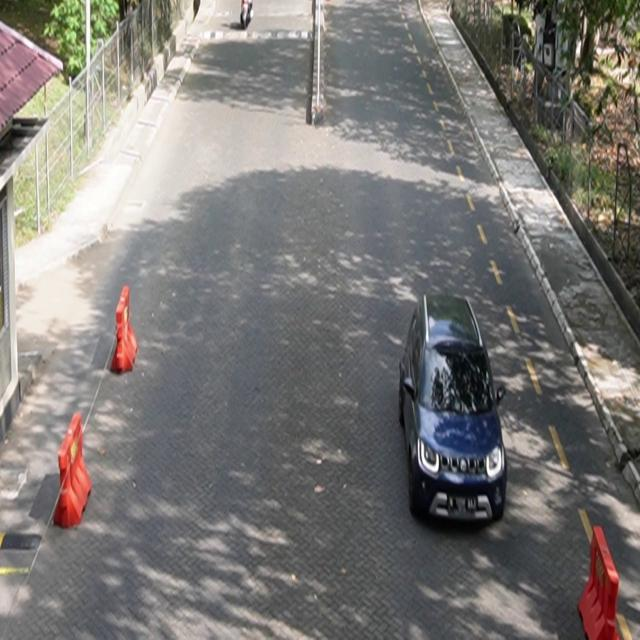car: (399, 292, 508, 525)
